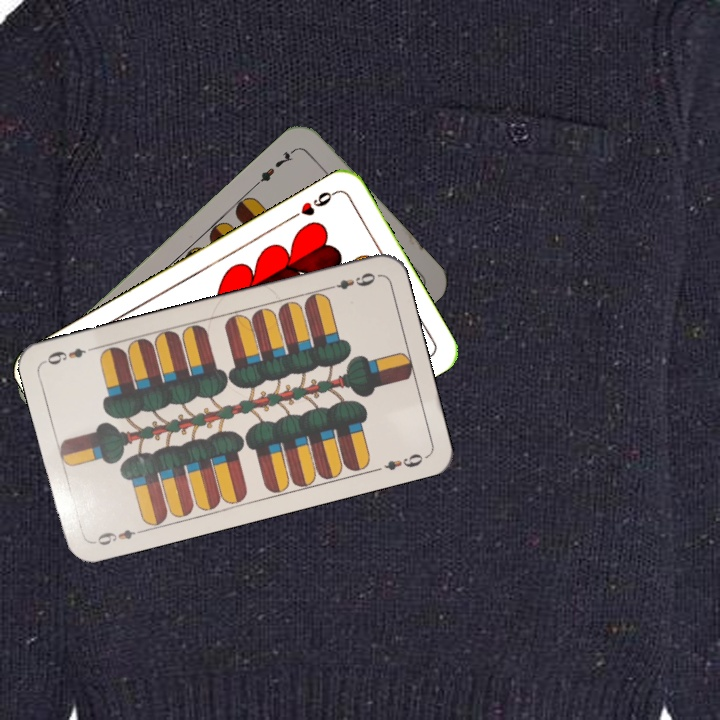E7: (251, 144, 299, 189)
E9: (323, 268, 378, 293), (89, 525, 147, 548)
H9: (286, 186, 340, 222)
